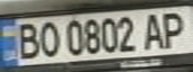0: (100, 15, 121, 54), (63, 17, 84, 56)
2: (115, 12, 142, 53)
8: (81, 16, 103, 55)
A: (139, 10, 169, 51)
B: (9, 20, 42, 60)
O: (33, 19, 60, 58)
P: (157, 8, 193, 50)
